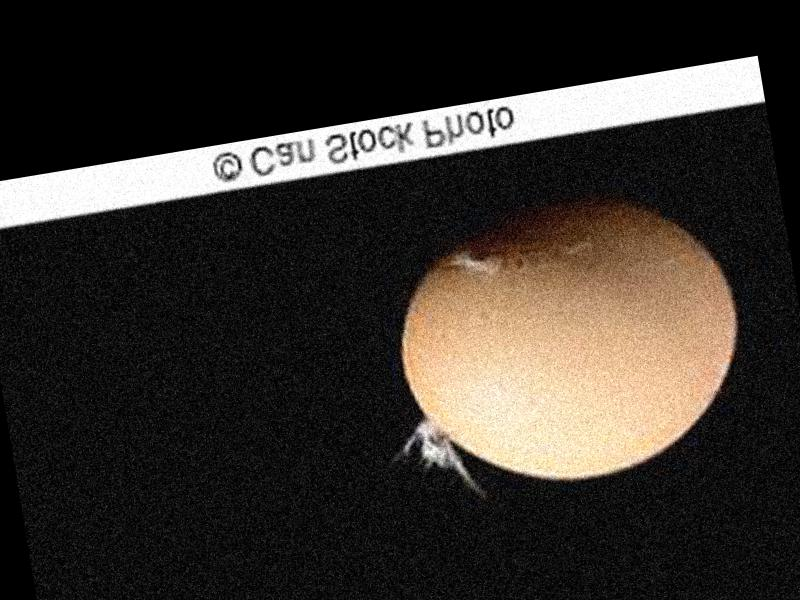Eggs: (381, 174, 758, 501)
